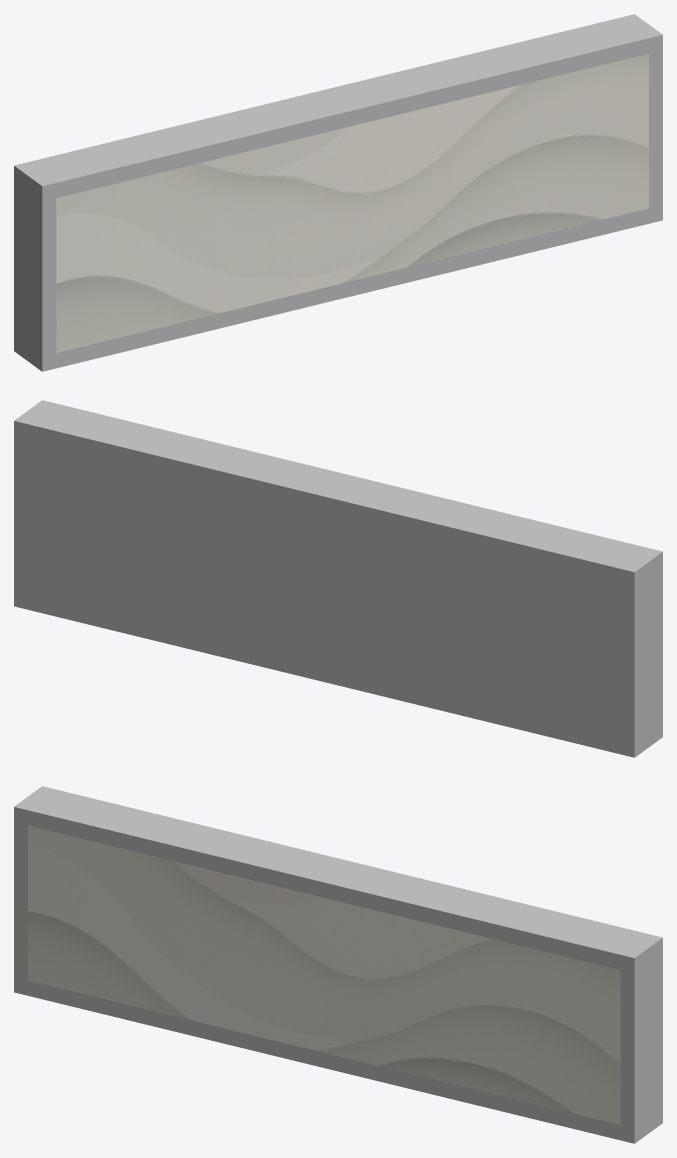
Rendered from Billboard_4x1_04.fbx.
The picture shows the model from 3 angles, top to bottom: view 1: azimuth 30°, elevation 25°; view 2: azimuth 150°, elevation 25°; view 3: azimuth 330°, elevation 25°; orthographic projection.
Visible parts, largest first — view 1: Billboard_4x1_04; view 2: Billboard_4x1_04; view 3: Billboard_4x1_04.
Part boxes in pixels (left/top/right/bottom): Billboard_4x1_04: left=14, top=14, right=662, bottom=371; Billboard_4x1_04: left=14, top=400, right=662, bottom=757; Billboard_4x1_04: left=14, top=786, right=662, bottom=1143.
Bounding box in the file's own units: 962 × 75.97 × 275.
